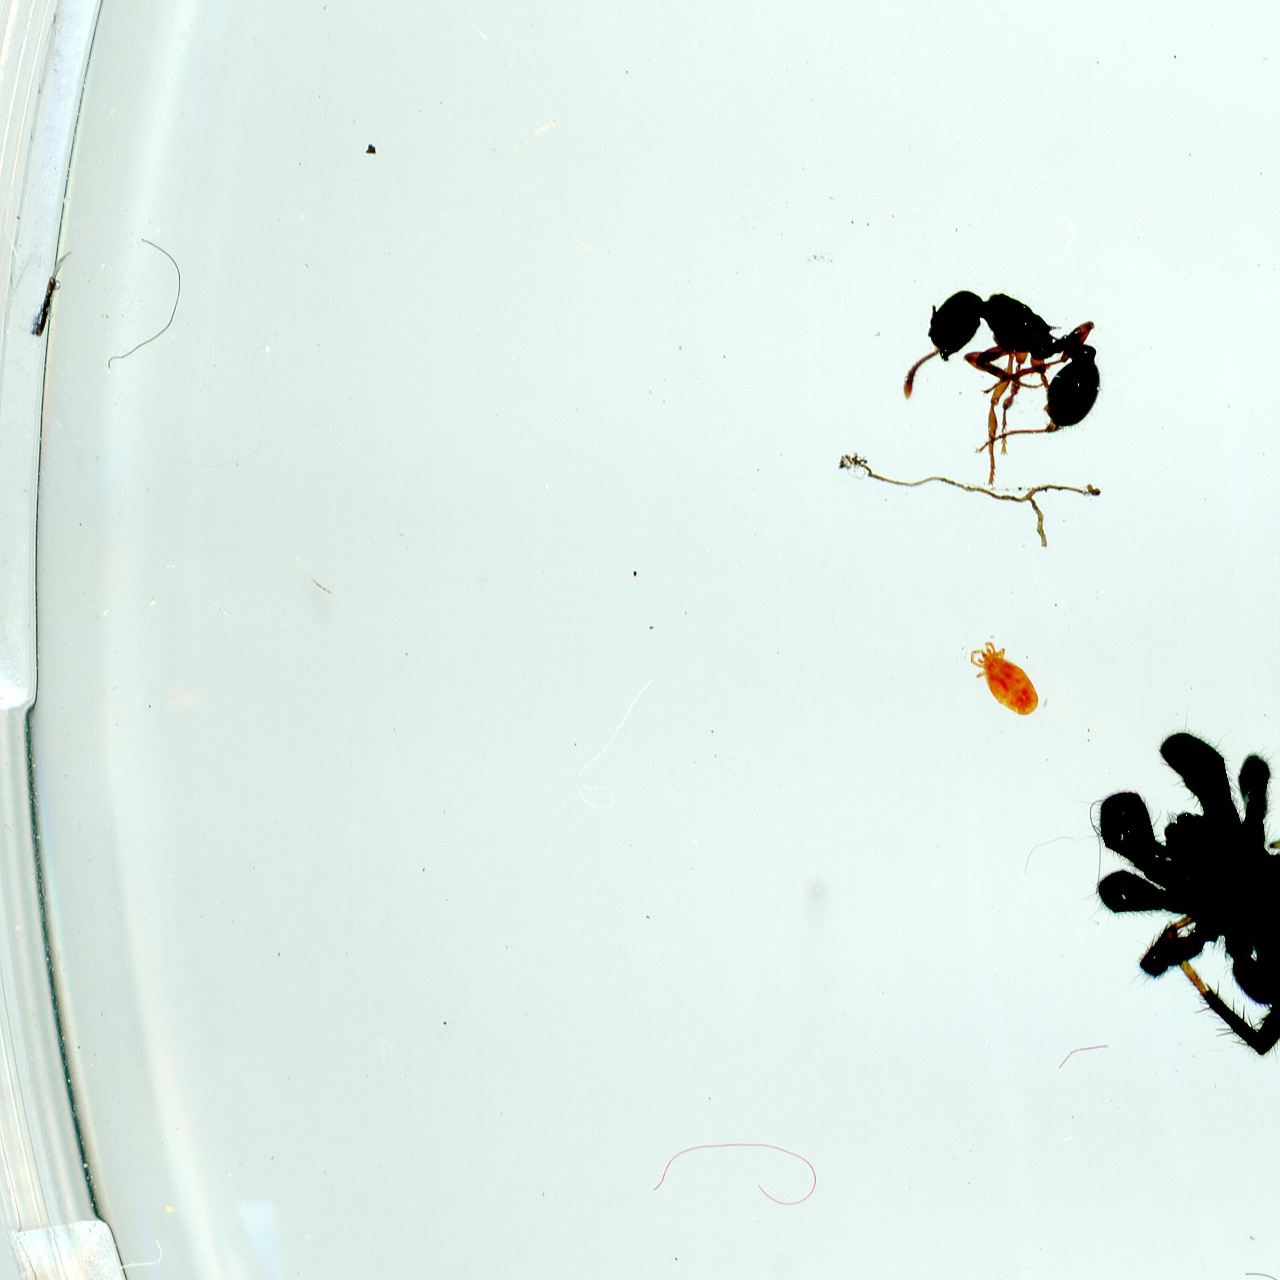arthropod: (1006, 654, 1280, 1146), (897, 279, 1108, 490), (947, 621, 1060, 739), (27, 247, 77, 343)
